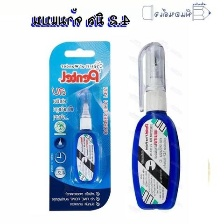book: (45, 37, 115, 212)
correction_fluid: (128, 39, 184, 211), (71, 87, 101, 183)
